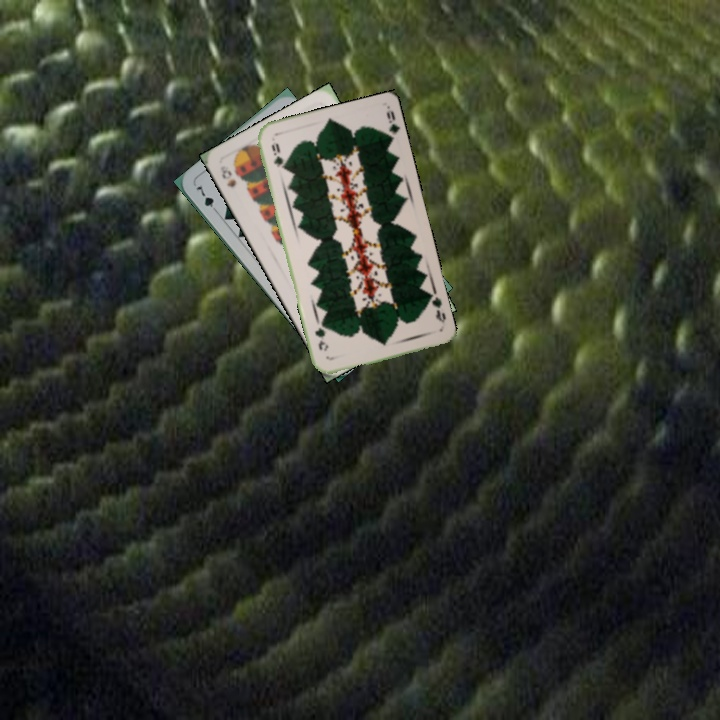G7: (192, 182, 221, 216)
G9: (424, 290, 449, 325), (267, 139, 287, 173)
S8: (217, 165, 239, 190)
